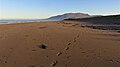human_footprint: (56, 35, 78, 66), (56, 42, 71, 66), (51, 61, 57, 65), (57, 52, 61, 55), (65, 47, 69, 50)
